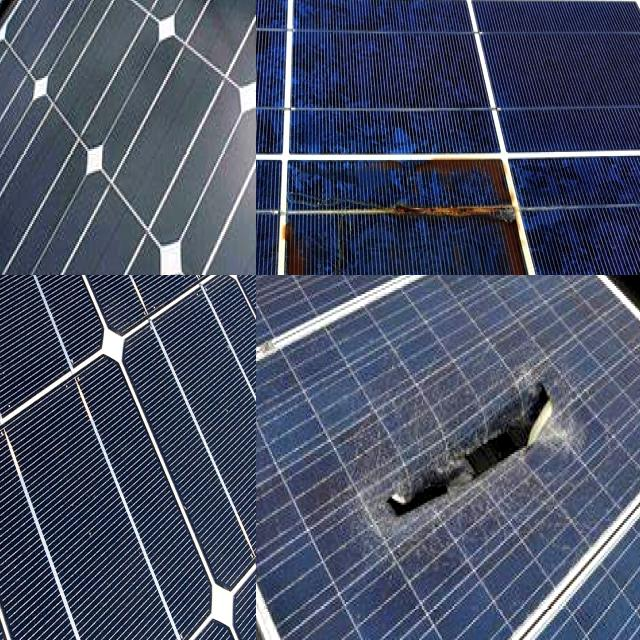crack: (0, 342, 250, 640), (0, 0, 256, 275), (103, 275, 256, 639), (23, 275, 256, 414), (0, 275, 124, 480)
hotspot: (333, 376, 592, 524)
shadow: (280, 149, 542, 275)
